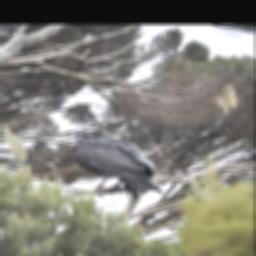Crow: (71, 127, 162, 203)
